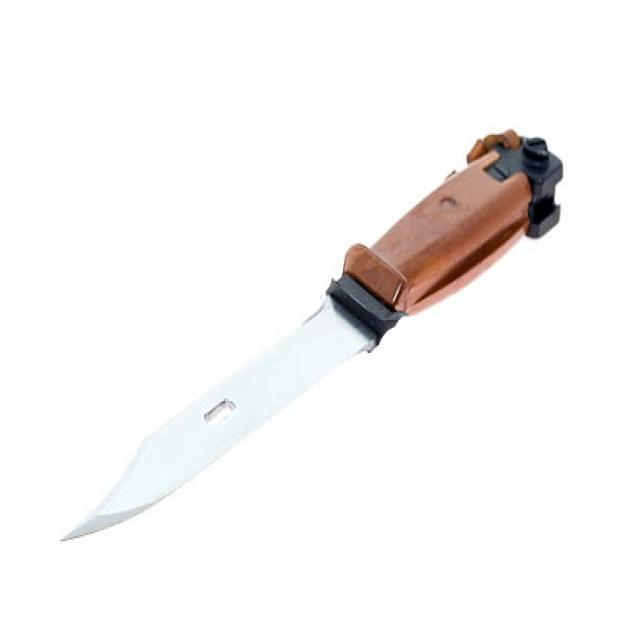knife: (52, 115, 578, 550)
